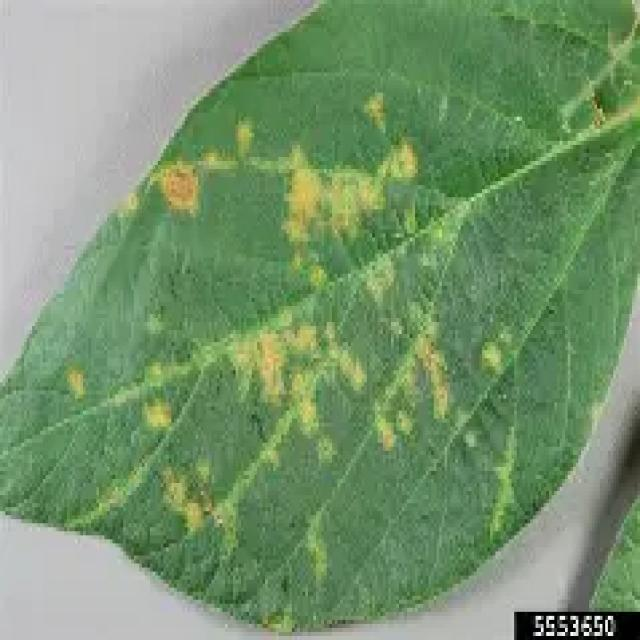leaf_spot: (0, 0, 637, 624)
